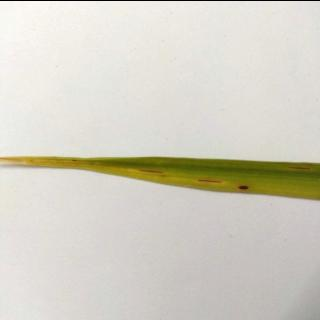bercak-Cokelat: (230, 178, 259, 192)
